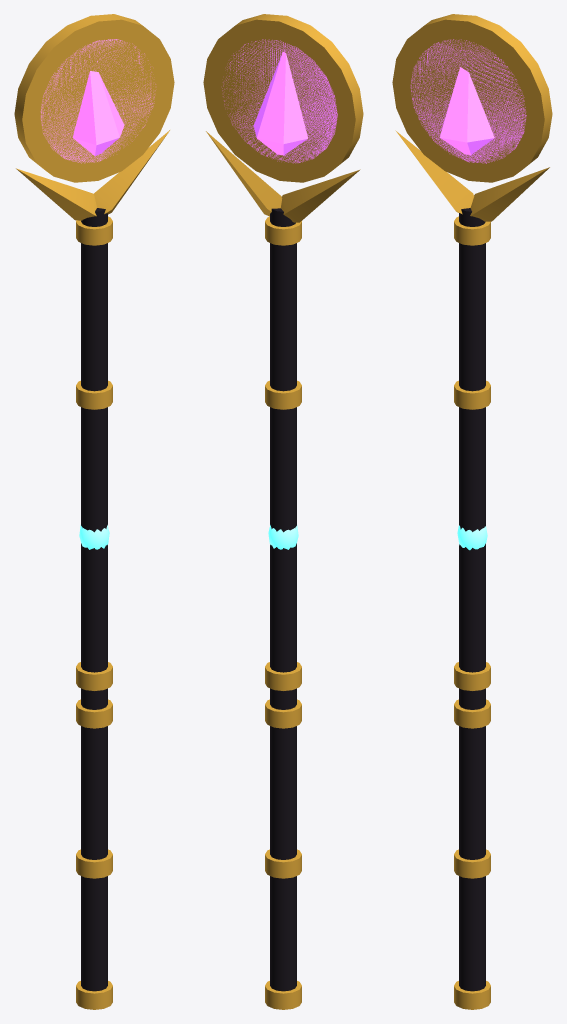
The model's file is arma_cajado_t3_halo_do_vazio.glb.
3 renders of one model, left to right at view 1: azimuth 30°, elevation 25°; view 2: azimuth 150°, elevation 25°; view 3: azimuth 330°, elevation 25°, orthographic.
Visible parts, largest first — view 1: arma_cajado_t3_halo_do_vazio, arma_cajado_t3_halo_do_vazio_foco; view 2: arma_cajado_t3_halo_do_vazio, arma_cajado_t3_halo_do_vazio_foco; view 3: arma_cajado_t3_halo_do_vazio, arma_cajado_t3_halo_do_vazio_foco.
Part boxes in pixels (bbox=[...]): arma_cajado_t3_halo_do_vazio: bbox=[14, 14, 174, 1009]; arma_cajado_t3_halo_do_vazio_foco: bbox=[72, 71, 124, 155]; arma_cajado_t3_halo_do_vazio: bbox=[203, 14, 363, 1009]; arma_cajado_t3_halo_do_vazio_foco: bbox=[253, 52, 307, 155]; arma_cajado_t3_halo_do_vazio: bbox=[392, 14, 552, 1009]; arma_cajado_t3_halo_do_vazio_foco: bbox=[440, 67, 494, 154].
Bounding box in the file's own units: 0.3473 × 2.1 × 0.1304.
